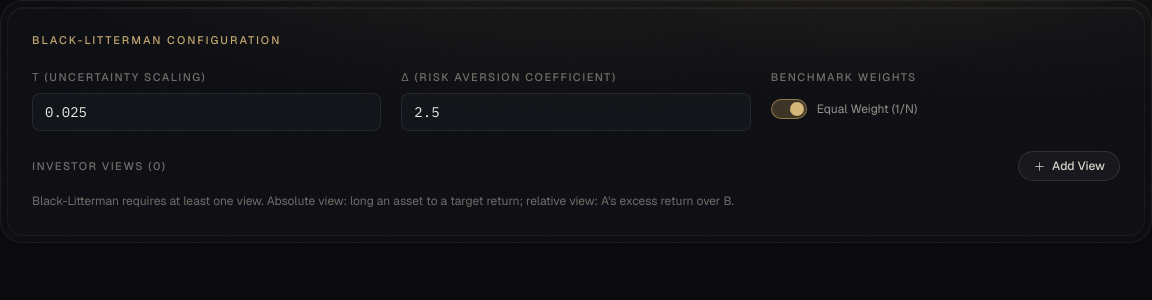
Test case: BLConfigPanel › deletes a view row
What coordinates should you click on to do the following:
click the button "Add View"
I would click on:
 (1069, 166)
Its box is [1018,151,1120,181].
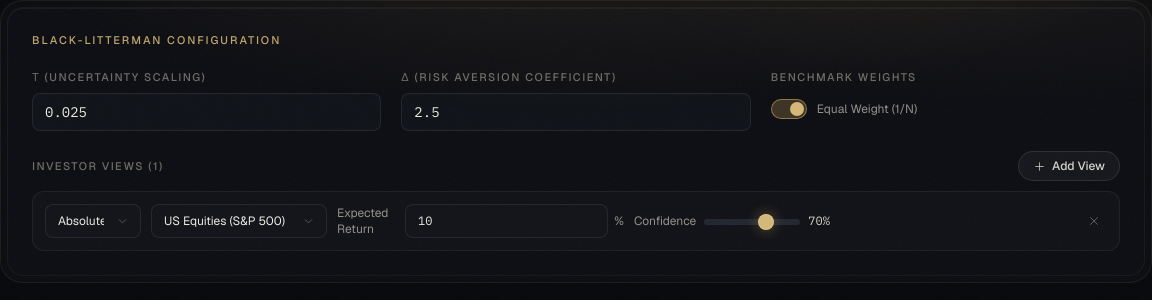
What coordinates should you click on to do the following:
click the button named "Delete view"
I would click on:
 (1094, 221)
Its box is [1081,208,1107,234].
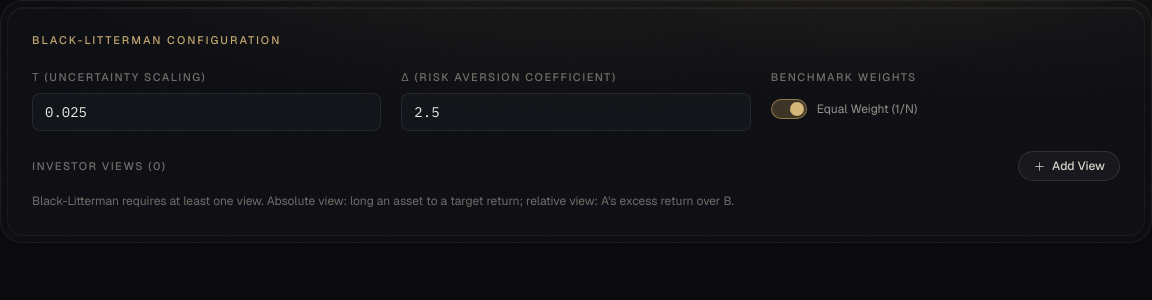
Expected: the text "requires at least one view" is shown, [32,193,734,209]
